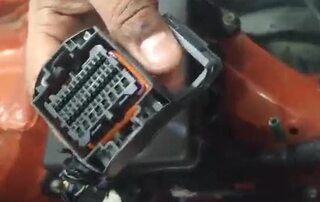connector: (33, 26, 175, 175)
